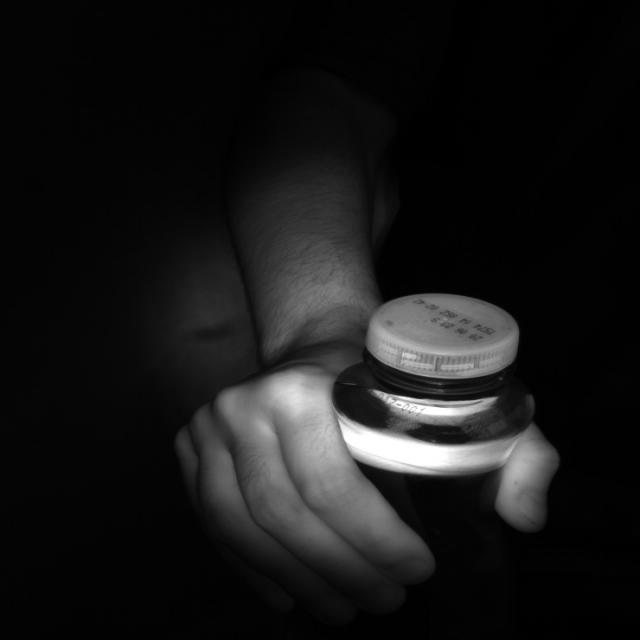Not Good: (360, 294, 521, 394)
